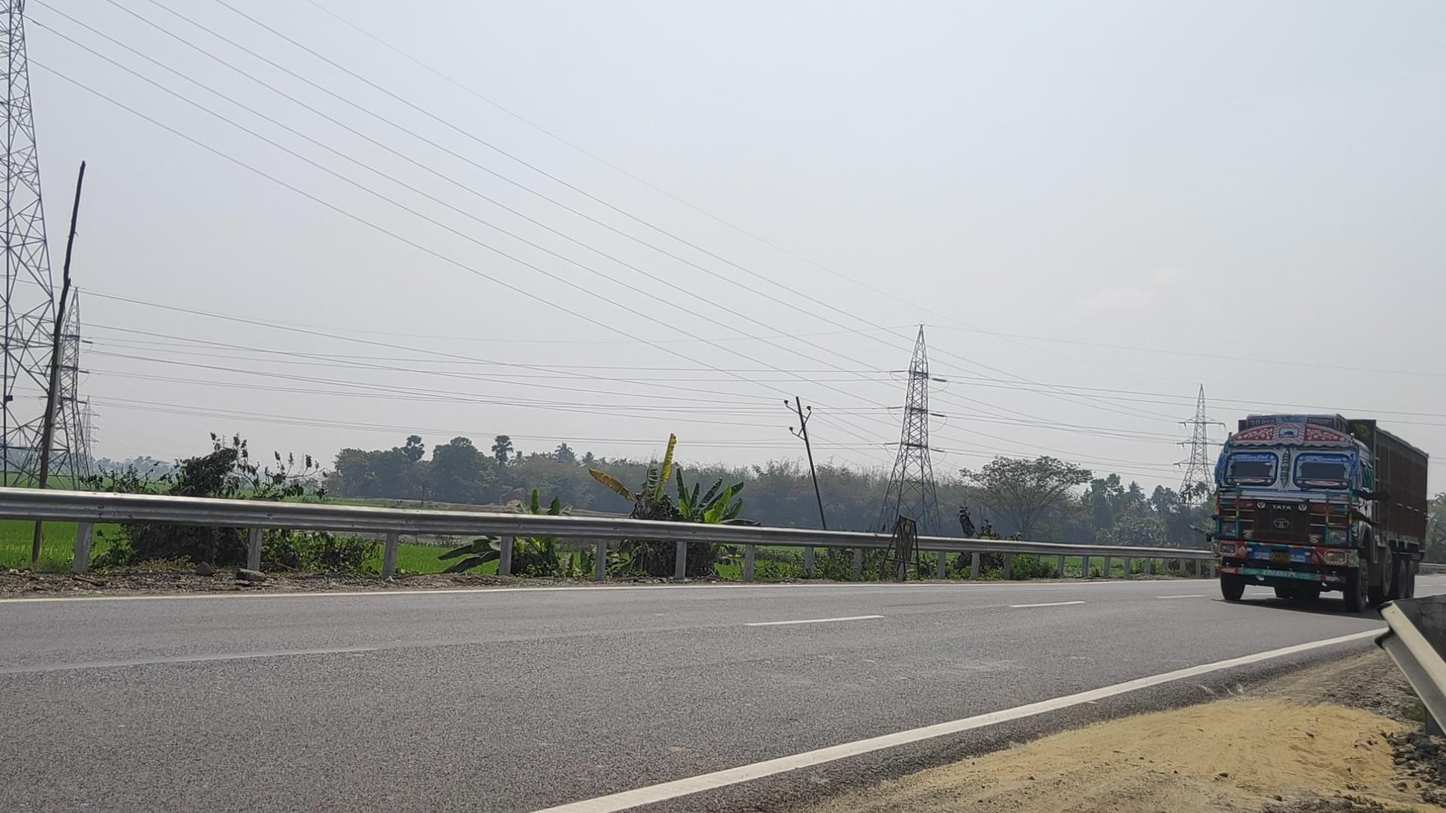truck: (1215, 413, 1429, 614)
